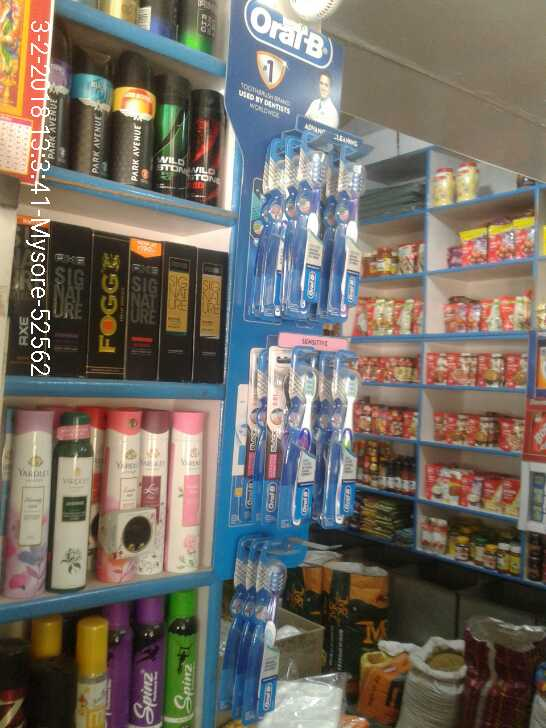oralb: (255, 136, 326, 304), (233, 534, 295, 720), (248, 343, 313, 520), (318, 353, 363, 525), (327, 161, 367, 303)
